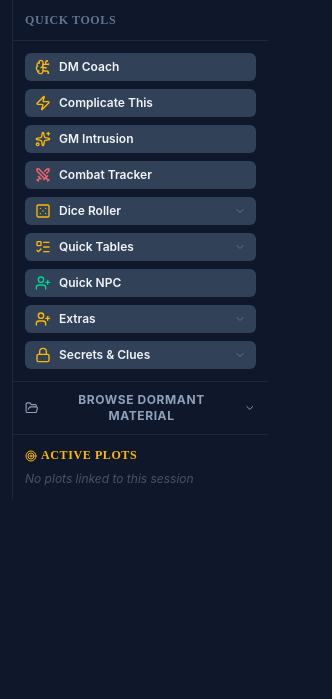
Test case: the result card offers Use It and Another › Another resamples and shows a fresh intrusion
This screenshot has width=332, height=699.
Click the button "GM Intrusion": point(140, 139) [25, 125, 256, 153]
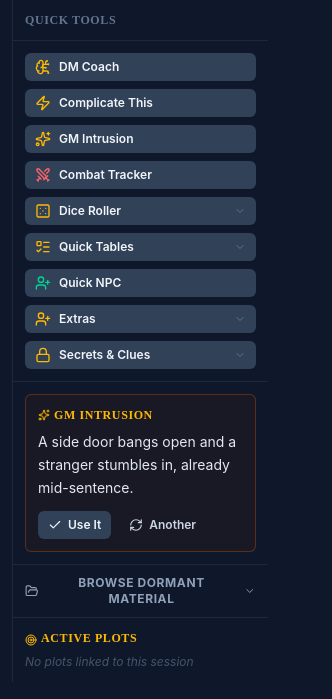
Check: the text "A side door bangs open and a stranger stumbles in, already mid-sentence." is shown, box [38, 431, 243, 499]
Click the button "Another": point(163, 525) [119, 511, 206, 539]
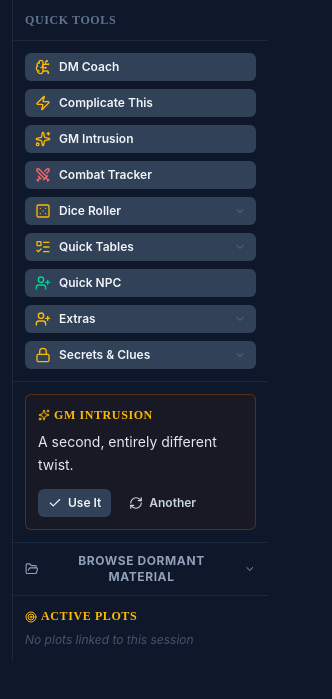
Check: the text "A second, entirely different twist." is shown, box [38, 431, 243, 476]
Check: the text "A side door bangs open and a stranger stumbles in, already mid-sentence." is gone
